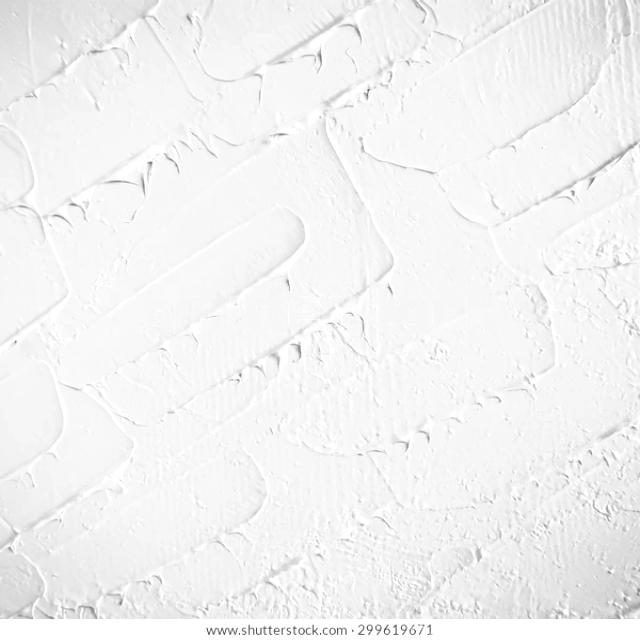rough and patchy surface: (0, 0, 640, 623), (2, 0, 640, 620)
